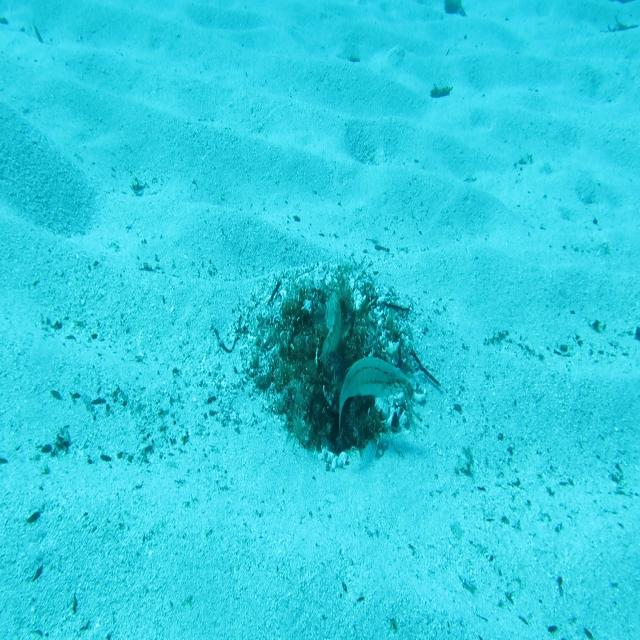NIP_CORE: (319, 289, 343, 371)
core_nest: (307, 304, 354, 358)
female: (337, 353, 411, 439)
nest: (240, 241, 446, 476)
vegetation: (428, 83, 455, 100)
